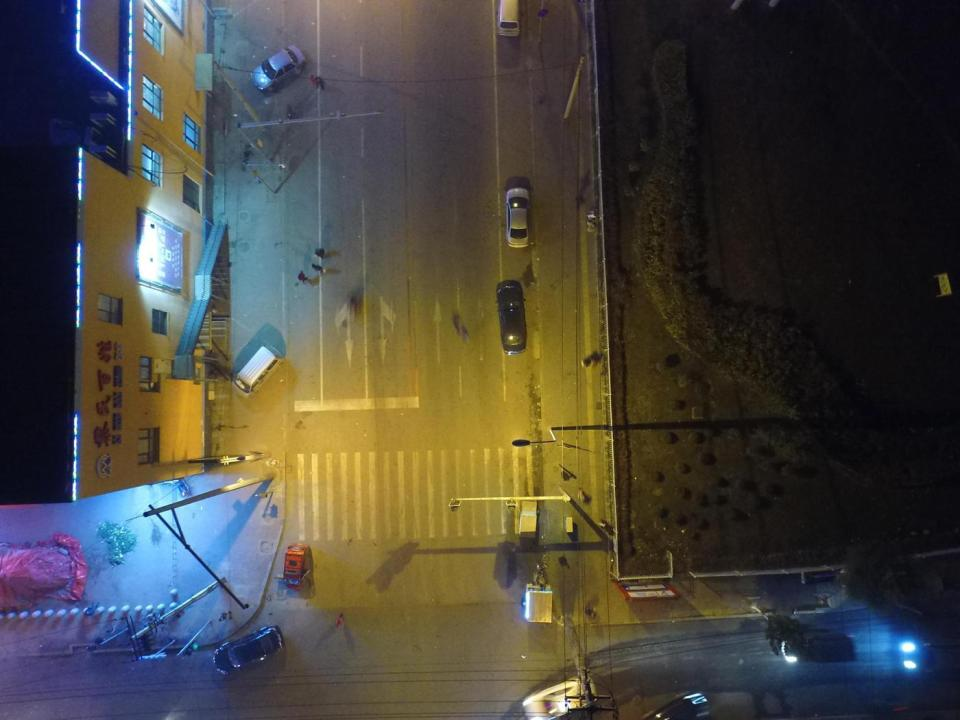car: (213, 626, 285, 675), (524, 677, 597, 720), (250, 45, 304, 91), (496, 280, 526, 354), (637, 690, 709, 720), (505, 188, 530, 247)
van: (232, 345, 284, 398), (782, 630, 855, 665), (899, 640, 960, 675), (497, 0, 519, 36)
